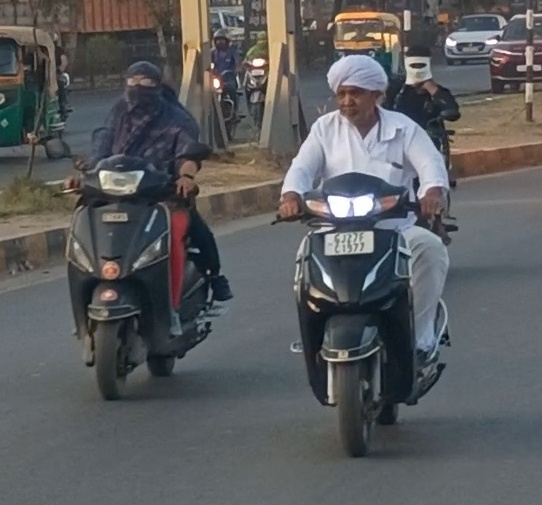BikeWithRider: (266, 50, 464, 461), (48, 57, 240, 399), (363, 43, 465, 251)
NoHelmet: (326, 53, 389, 127), (116, 57, 168, 114), (400, 43, 438, 90)
